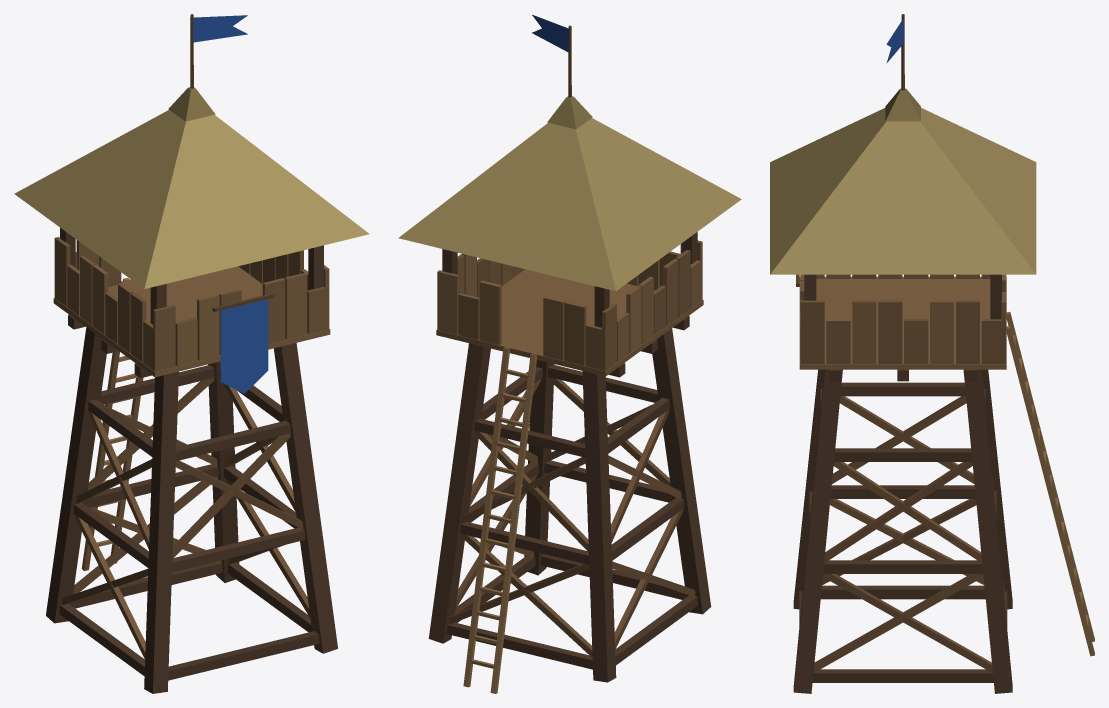
Rendered from watchtower.glb.
3 views of the same model, side by side, from view 1: azimuth 30°, elevation 25°; view 2: azimuth 150°, elevation 25°; view 3: azimuth 270°, elevation 25° (orthographic). The views are drawn at different scales.
Visible parts, largest first — view 1: watchtower; view 2: watchtower; view 3: watchtower.
Part boxes in pixels (box(x1,y1,x2,y2)): watchtower: box(14, 14, 369, 693); watchtower: box(398, 14, 741, 693); watchtower: box(770, 14, 1094, 693).
Size of the model in its own units: 4.5 by 11.83 by 5.49.
